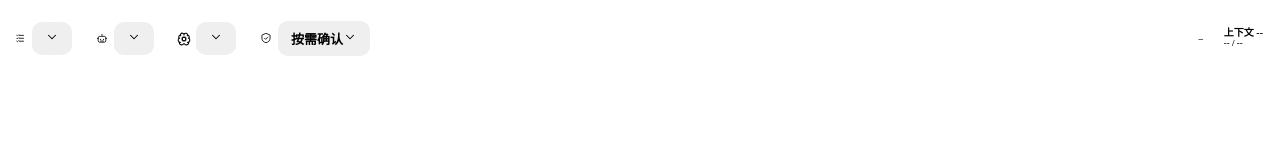
Scenario: ComposerMetaBar › localizes reasoning effort labels
This screenshot has width=1277, height=160.
Click the dropdown named "思考深度" at (216,38), box [196,22,236,54]
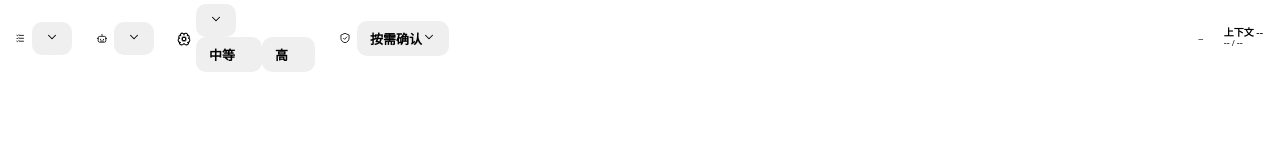
Now the option "中等" is shown, box [196,37,262,72]
Now the option "高" is shown, box [262,37,315,72]
